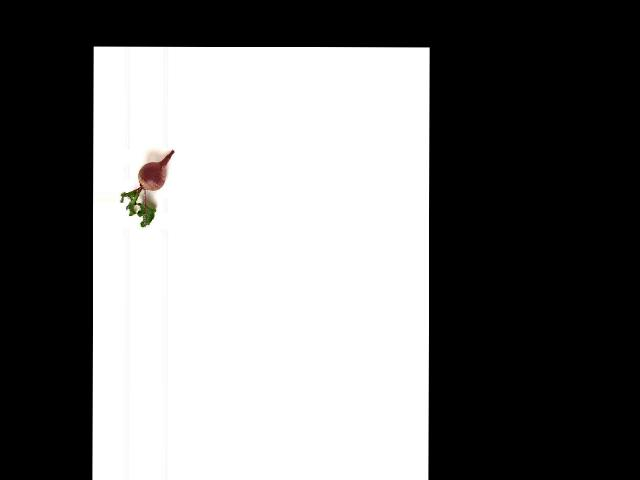beet: (120, 150, 174, 227)
